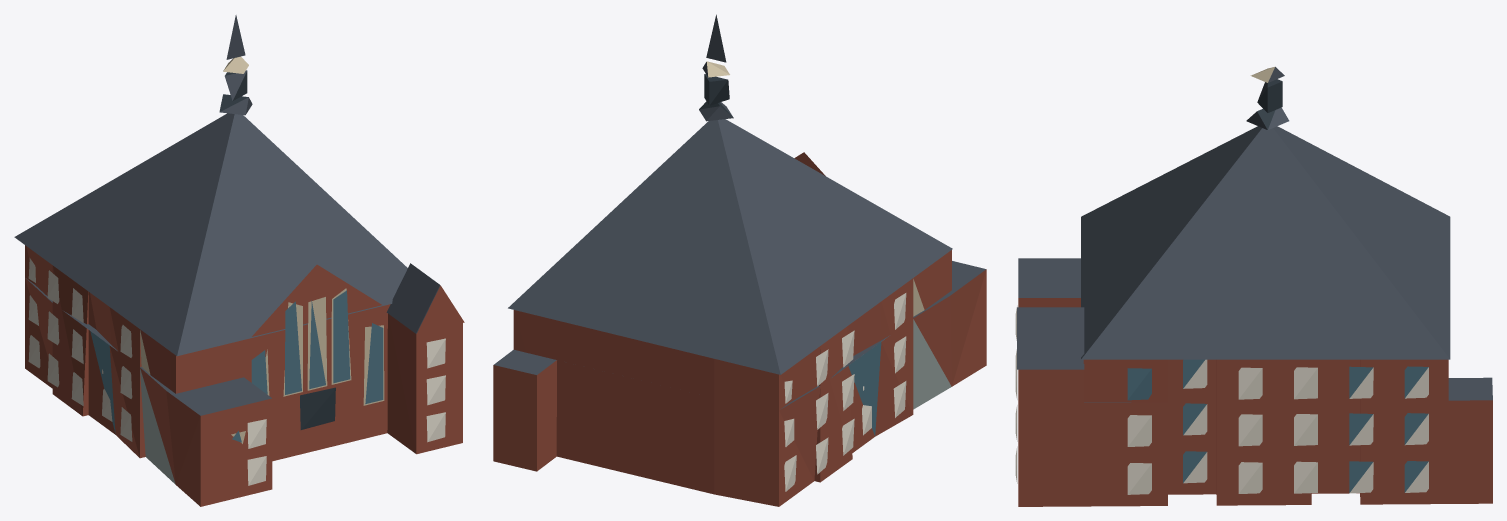
Rendered from orgelpark.lod2.glb.
The picture shows the model from 3 angles, left to right: view 1: azimuth 30°, elevation 25°; view 2: azimuth 150°, elevation 25°; view 3: azimuth 270°, elevation 25°; orthographic projection. The views are drawn at different scales.
Parts seen in each view (by area): view 1: lod2; view 2: lod2; view 3: lod2.
Boxes of the visible parts, x1,y1,x2,y2 form: lod2: (14,15,464,506); lod2: (493,14,986,506); lod2: (1015,66,1492,506).
Bounding box in the file's own units: 26.13 × 35.8 × 36.23.
